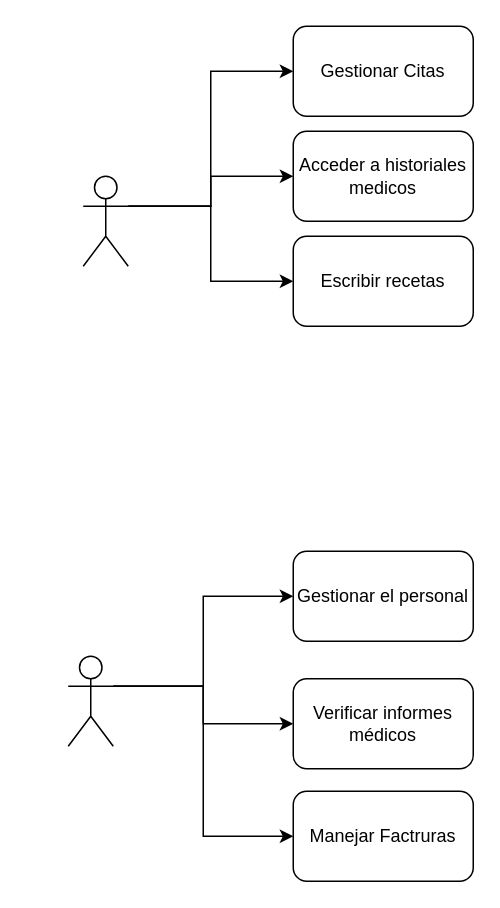
Some shapes in this 500 by 908 pixel diagram are drawn without their labels. Here are the shapes that lost their labels. From the top down, the box of each, then its label:
(82, 175, 128, 266): Veterinario
(67, 655, 113, 746): Administradores
